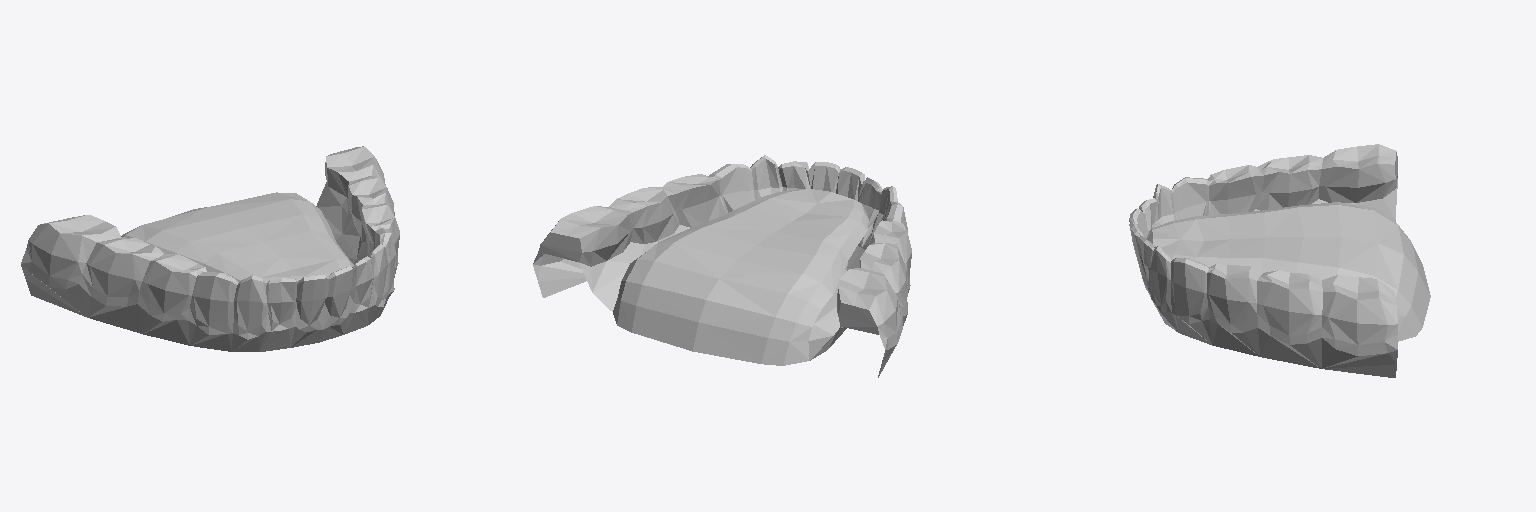
The model's file is Uth_Teeth_Lo_GrpShape.obj.
The picture shows the model from 3 angles: view 1: azimuth 30°, elevation 25°; view 2: azimuth 150°, elevation 25°; view 3: azimuth 270°, elevation 25°; orthographic projection.
Visible parts, largest first — view 1: Uth_Teeth_Lo_Grp Head_Grp SkinnedMesh Mesh CharacterRoot; view 2: Uth_Teeth_Lo_Grp Head_Grp SkinnedMesh Mesh CharacterRoot; view 3: Uth_Teeth_Lo_Grp Head_Grp SkinnedMesh Mesh CharacterRoot.
Boxes of the visible parts, box(x1,y1,x2,y2) form: Uth_Teeth_Lo_Grp Head_Grp SkinnedMesh Mesh CharacterRoot: box(21, 146, 399, 351); Uth_Teeth_Lo_Grp Head_Grp SkinnedMesh Mesh CharacterRoot: box(533, 155, 911, 377); Uth_Teeth_Lo_Grp Head_Grp SkinnedMesh Mesh CharacterRoot: box(1129, 144, 1430, 377).
Bounding box in the file's own units: 8.53 × 1.9 × 6.32.